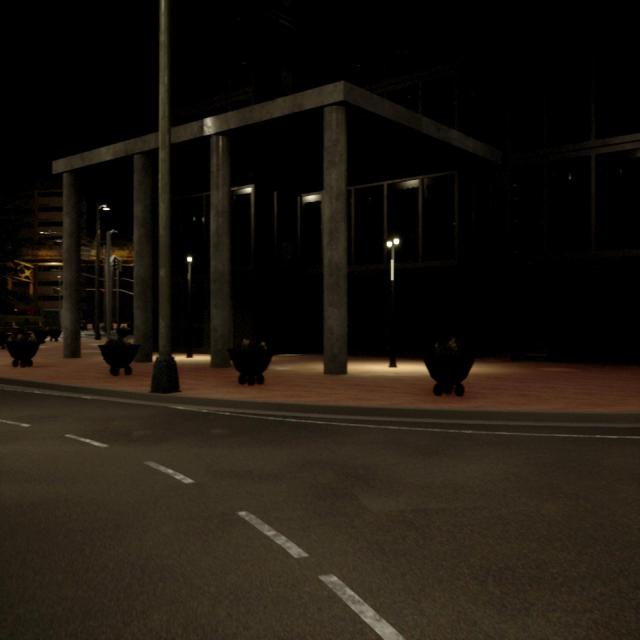traffic_light: (102, 289, 105, 292)
